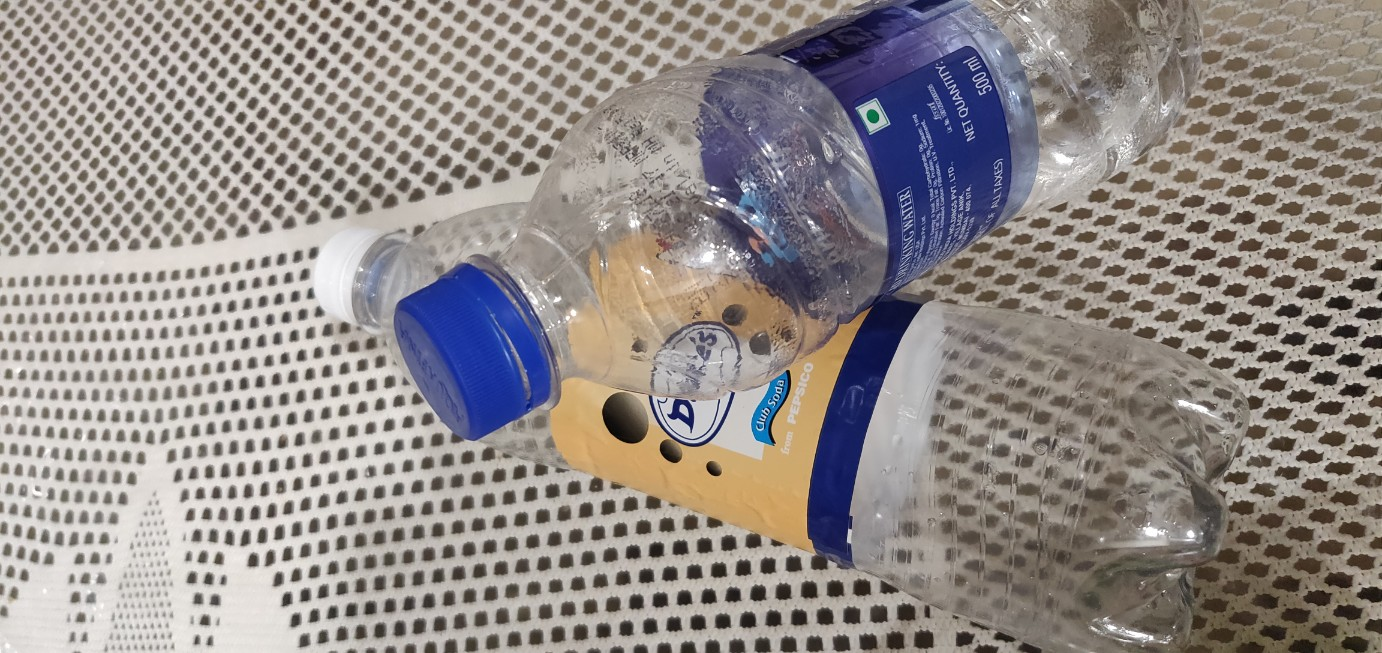Electronics: (277, 163, 1276, 651), (381, 2, 1380, 456)
